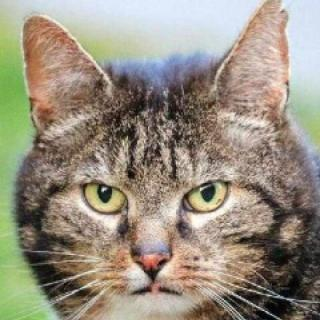cat: (12, 10, 303, 314)
nose: (120, 219, 186, 282)
